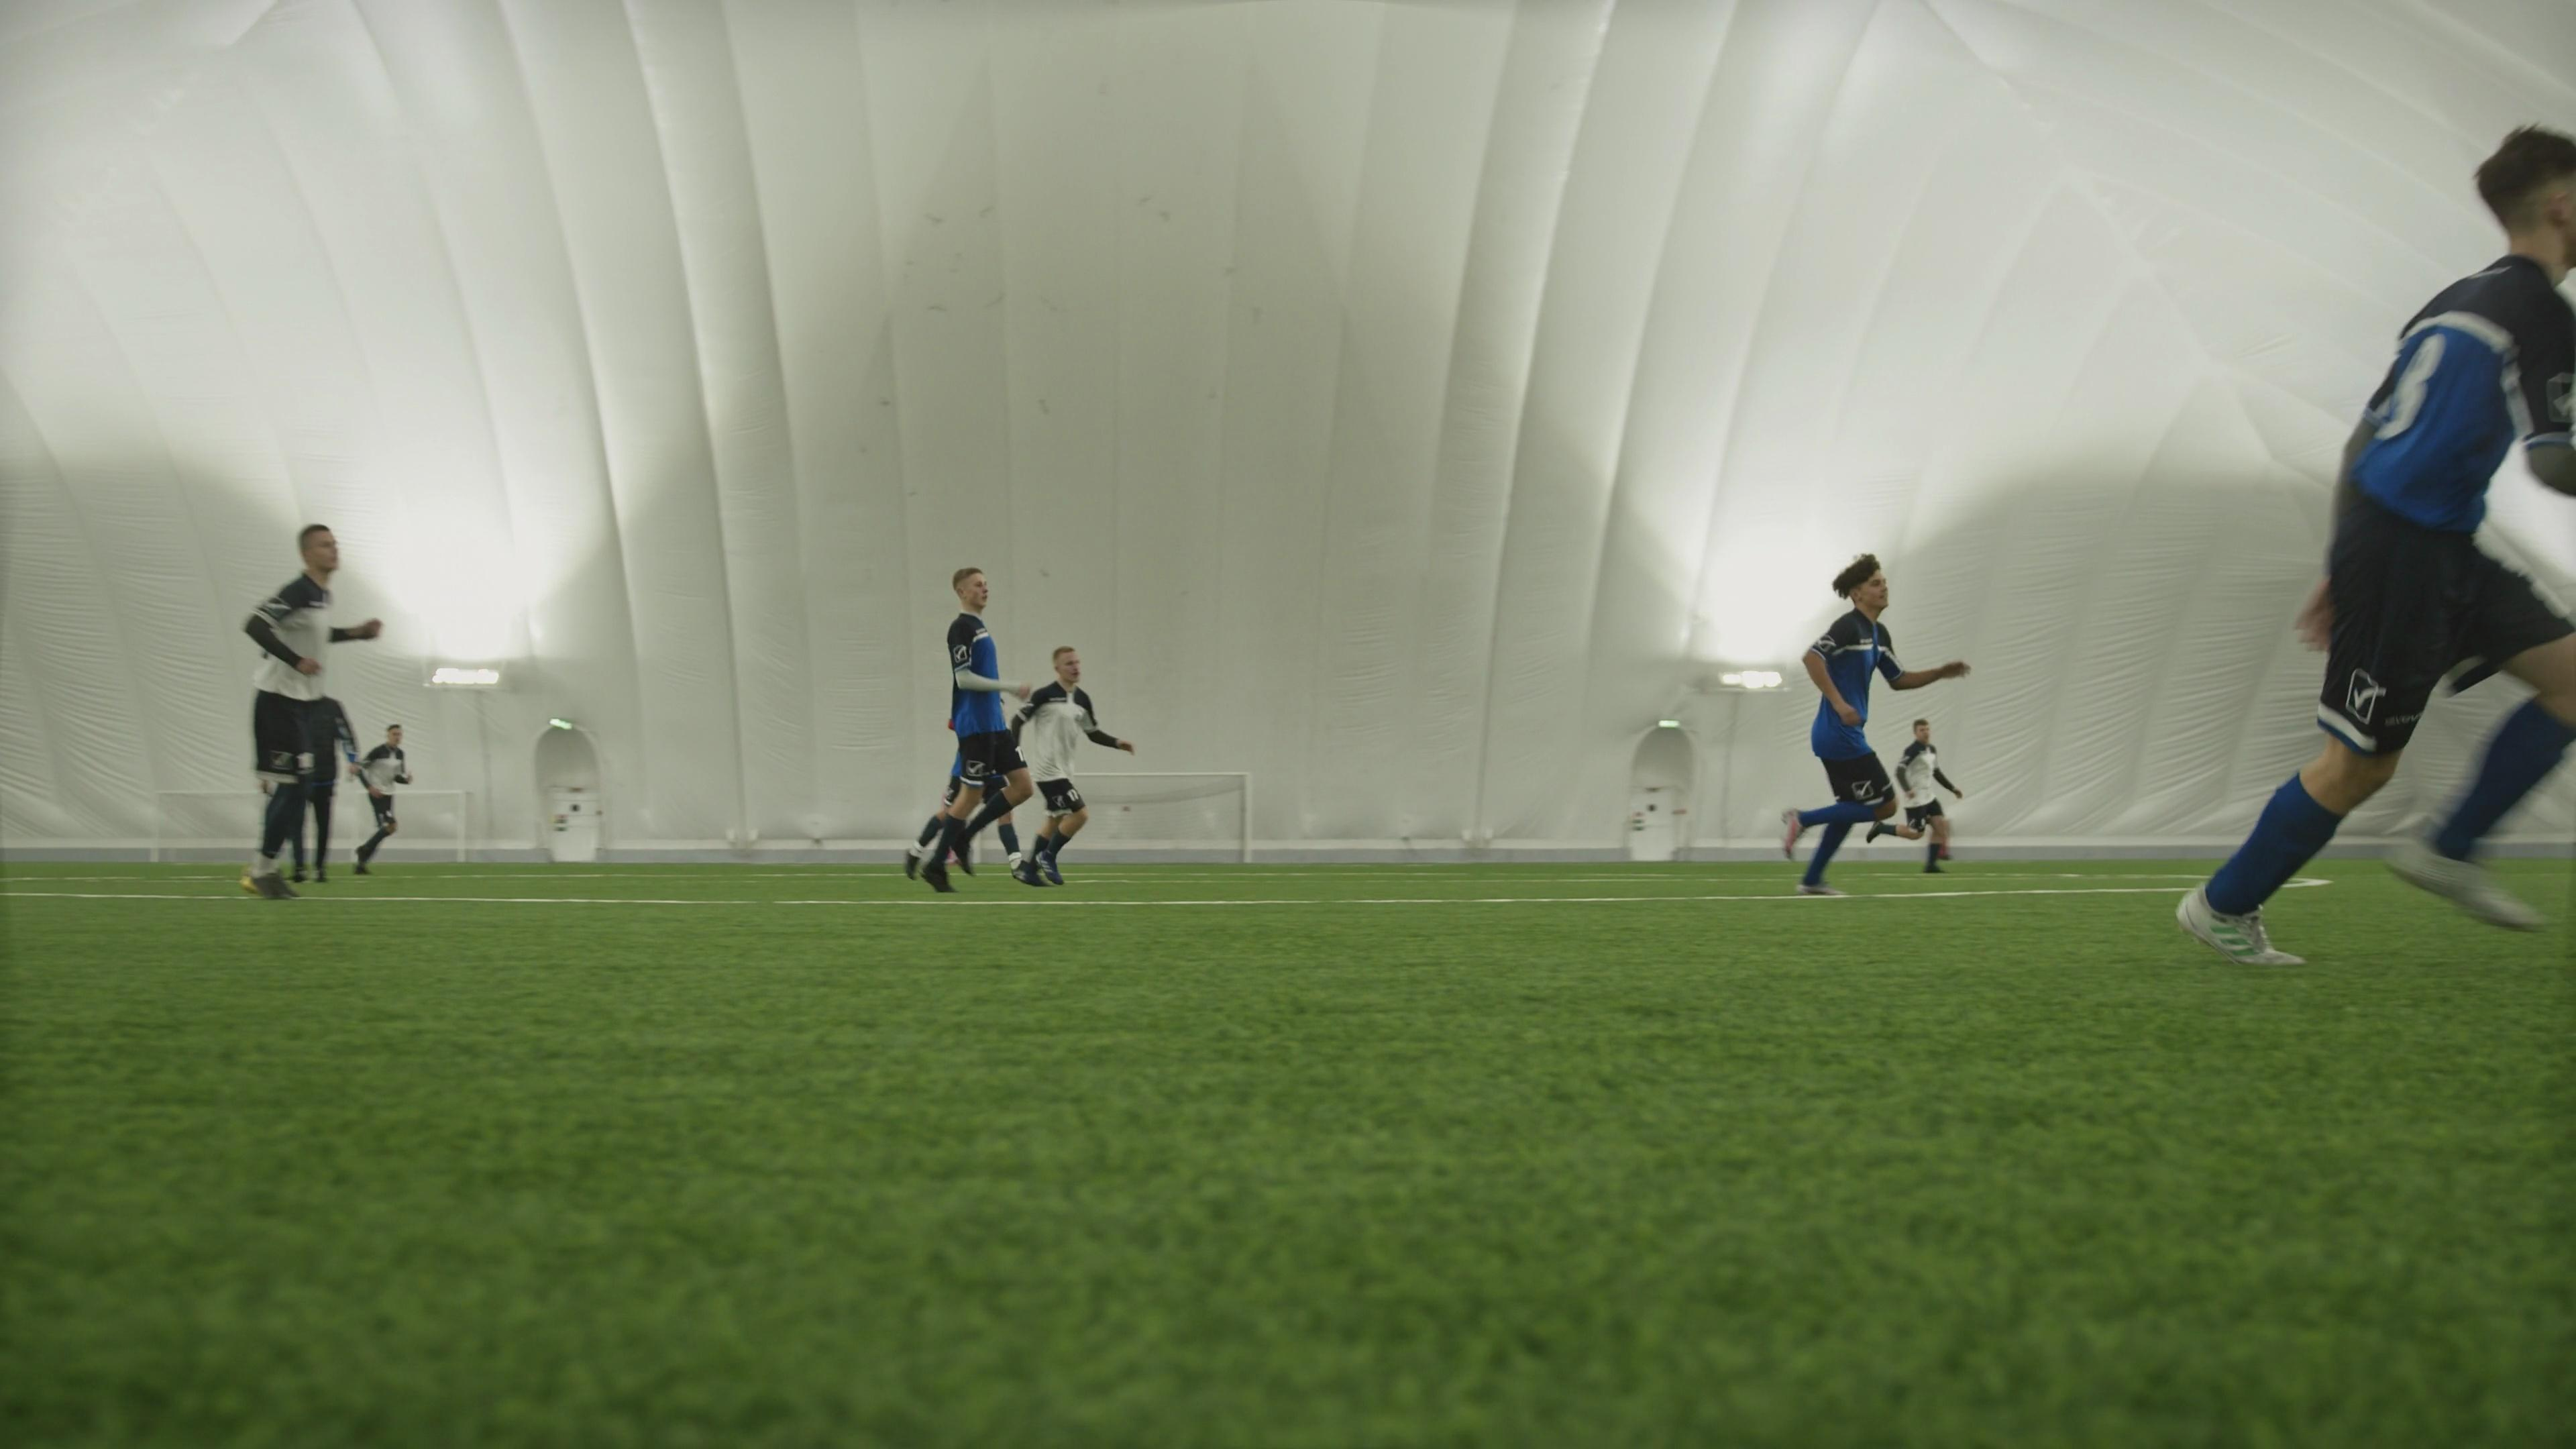team1: (2173, 126, 2574, 968), (1789, 552, 1969, 892), (915, 564, 1056, 892)
team2: (242, 520, 384, 901), (1007, 642, 1136, 899), (1875, 715, 1960, 881), (350, 725, 421, 874)
